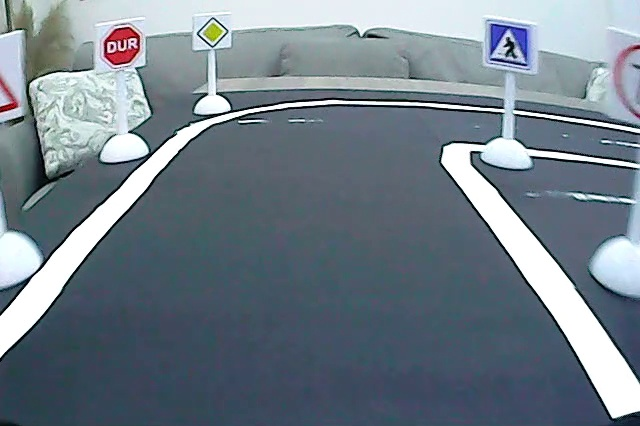pedestrian crossing: (485, 19, 533, 72)
stop sign: (101, 22, 144, 70)
